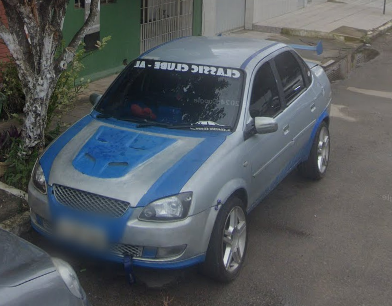car: (26, 35, 344, 275)
